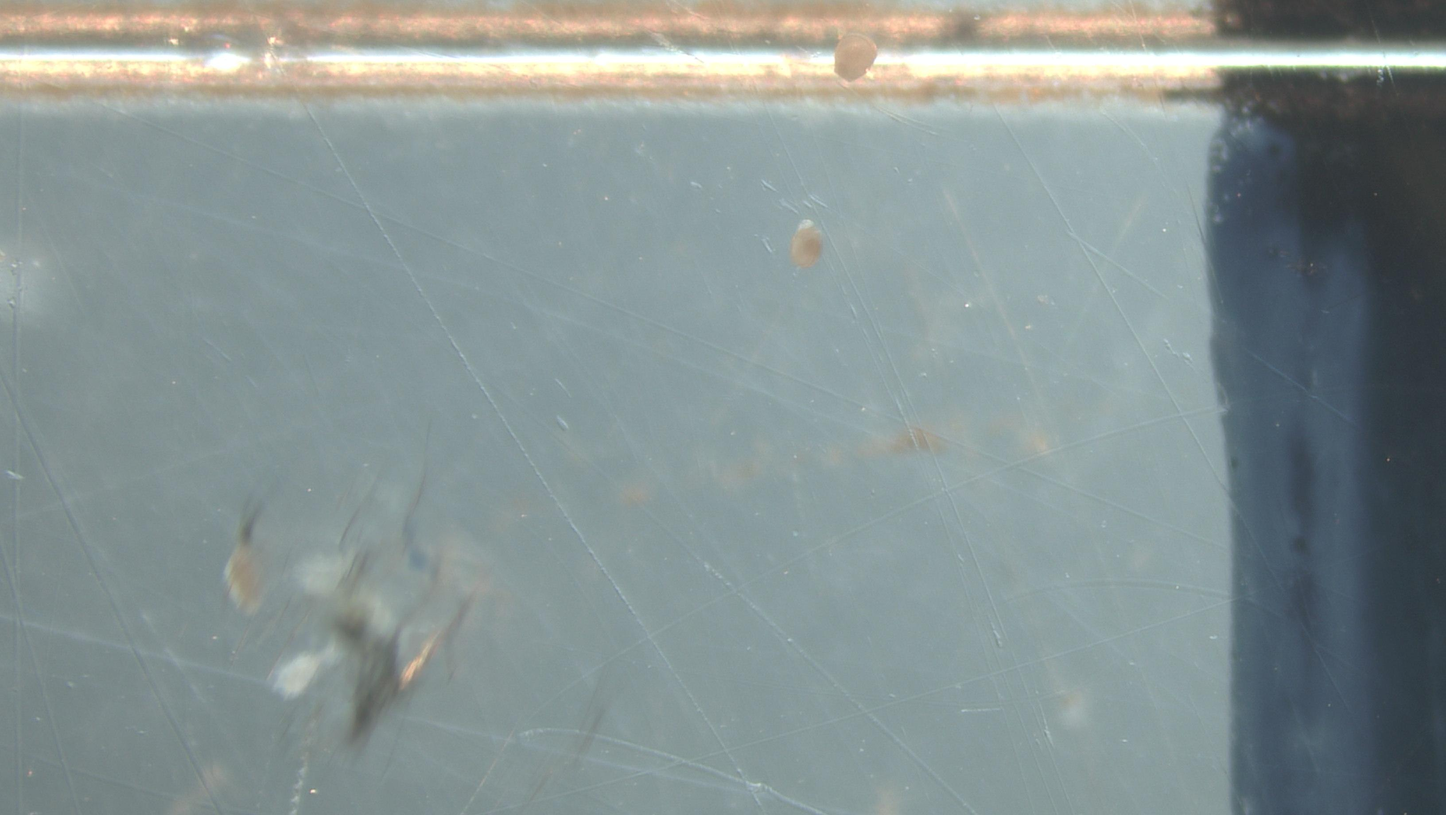live: (835, 33, 877, 82), (790, 220, 822, 268)
